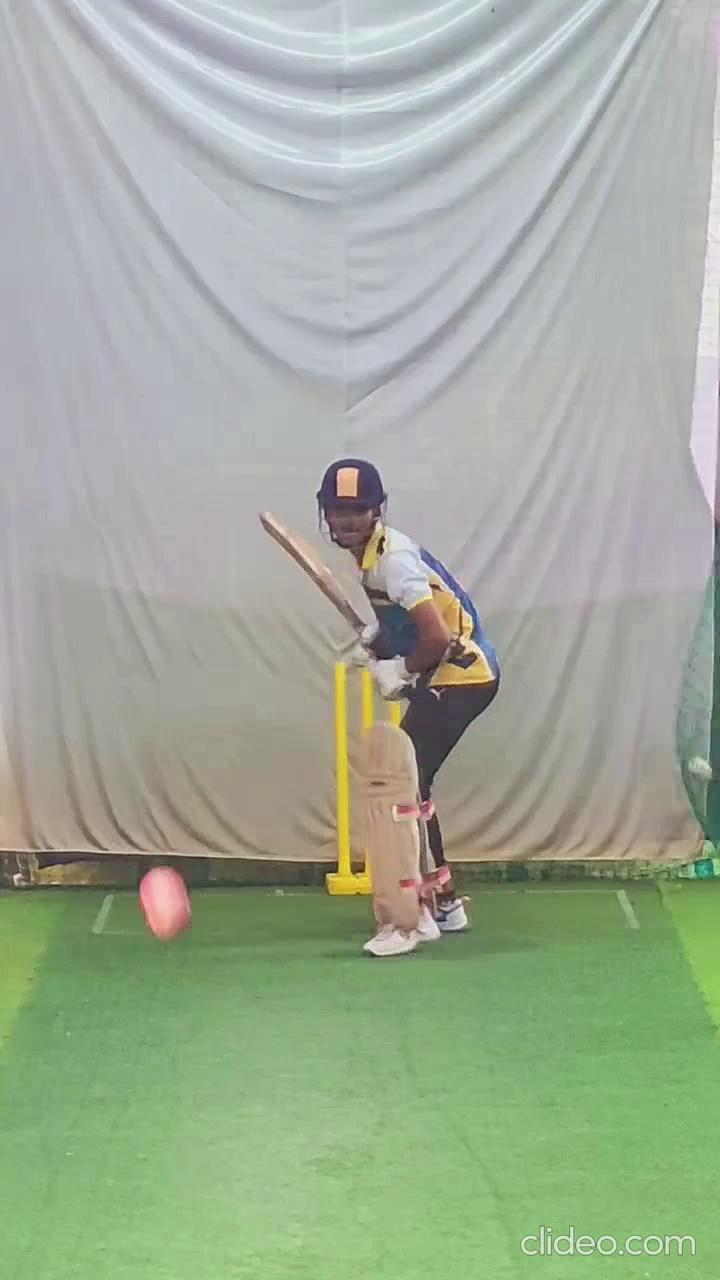bat: (248, 498, 373, 639)
